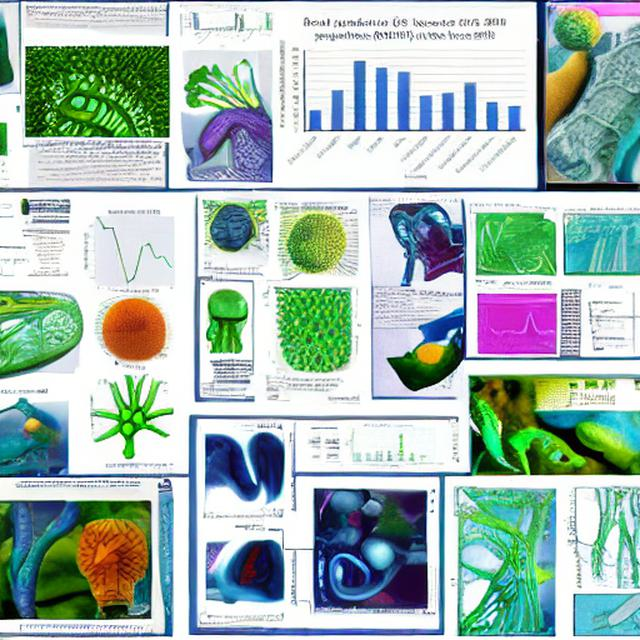Graph: (274, 13, 530, 181), (73, 205, 193, 295), (478, 304, 557, 353), (177, 3, 259, 50), (343, 423, 418, 469)
